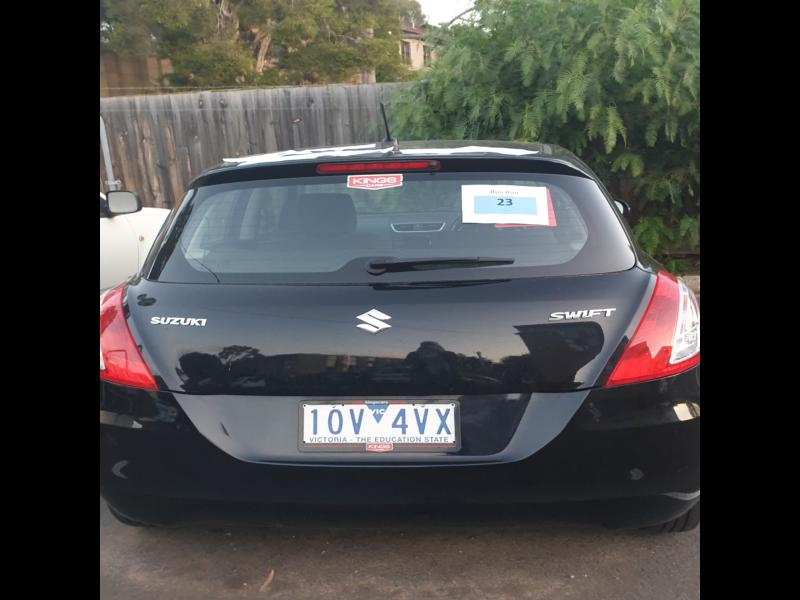BusRun: (473, 195, 537, 217)
PlateNo: (300, 400, 455, 443)
